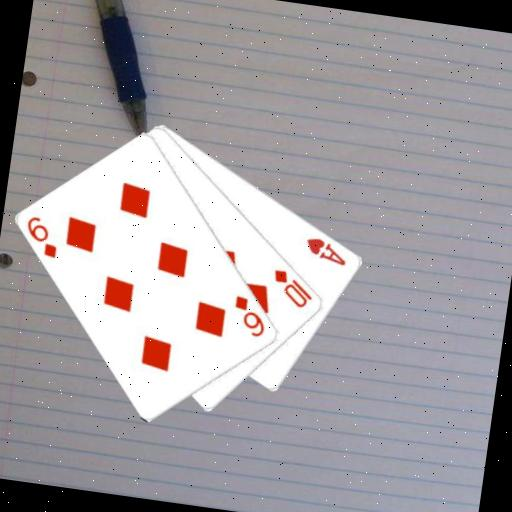10D: (267, 266, 318, 312)
6D: (228, 292, 271, 340), (20, 213, 63, 261)
AH: (301, 233, 352, 268)
